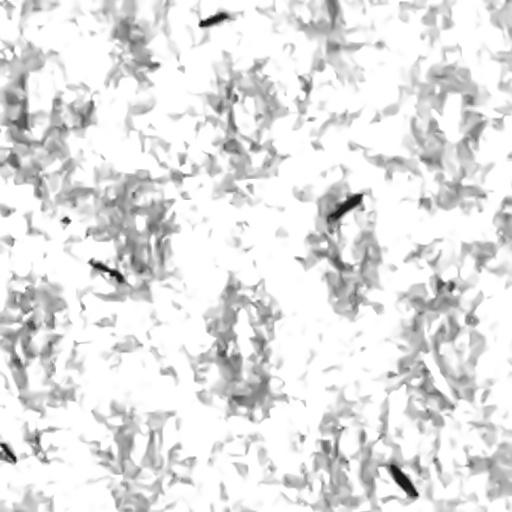egg: (385, 463, 418, 497), (327, 193, 362, 222), (88, 258, 126, 283), (199, 11, 229, 27), (0, 442, 15, 462)
